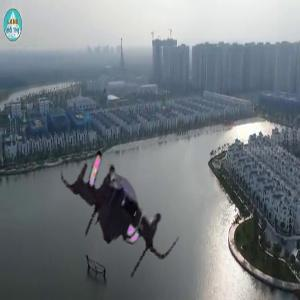drone: (42, 136, 191, 285)
